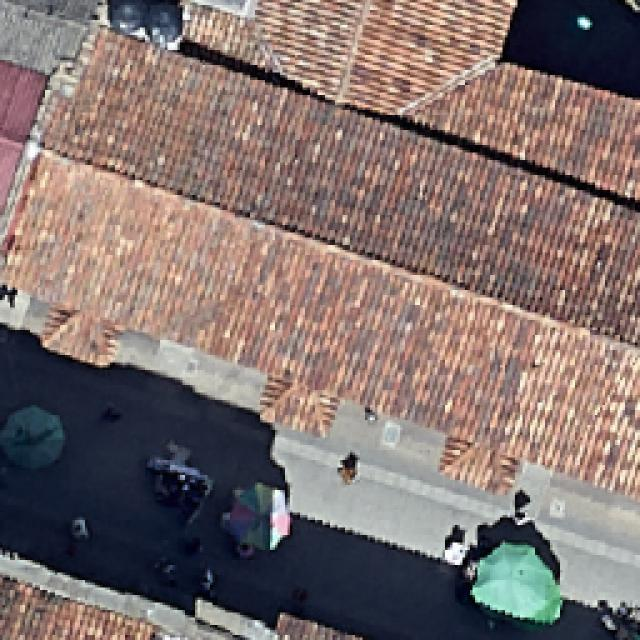vendedor_ambulante: (476, 540, 558, 632), (222, 482, 294, 552), (2, 403, 67, 473)
